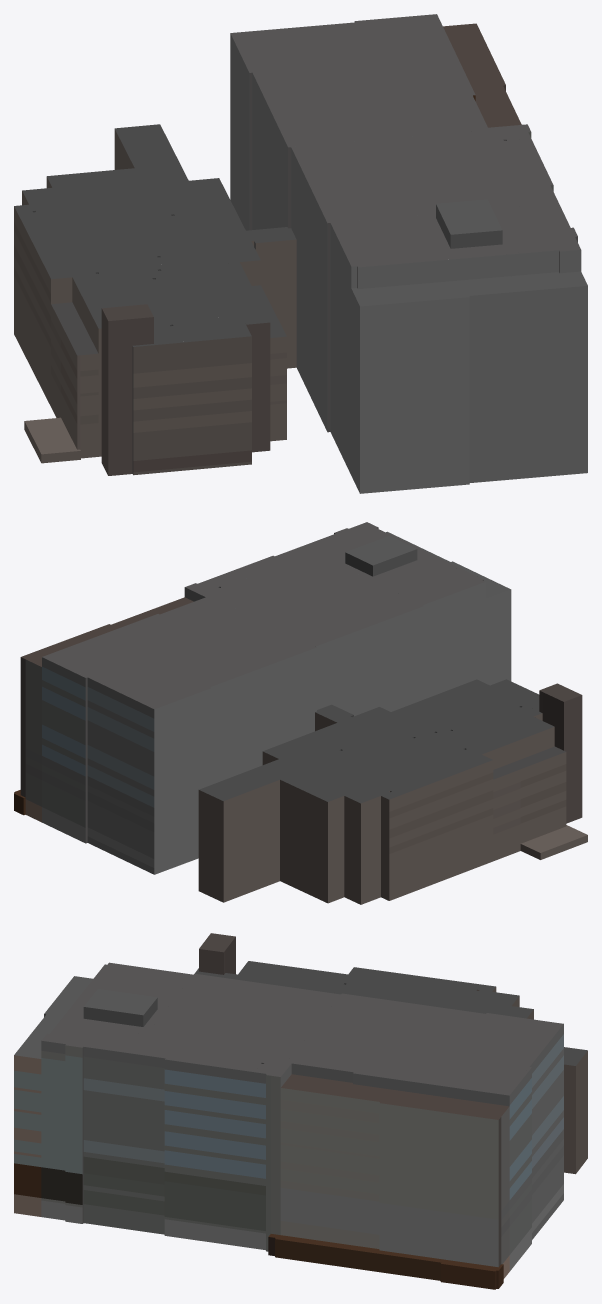
The model's file is t_1_2.far.glb.
3 views of the same model, one above another, from view 1: azimuth 30°, elevation 25°; view 2: azimuth 150°, elevation 25°; view 3: azimuth 270°, elevation 25° (orthographic). The views are drawn at different scales.
Parts seen in each view (by area): view 1: opaque; view 2: opaque; view 3: opaque.
Part boxes in pixels (<box>): opaque: <box>14,14,587,493</box>; opaque: <box>14,522,587,904</box>; opaque: <box>14,933,587,1289</box>.
Size of the model in its own units: 109 by 39.6 by 109.
Materials: 1 (1 with a texture image).
